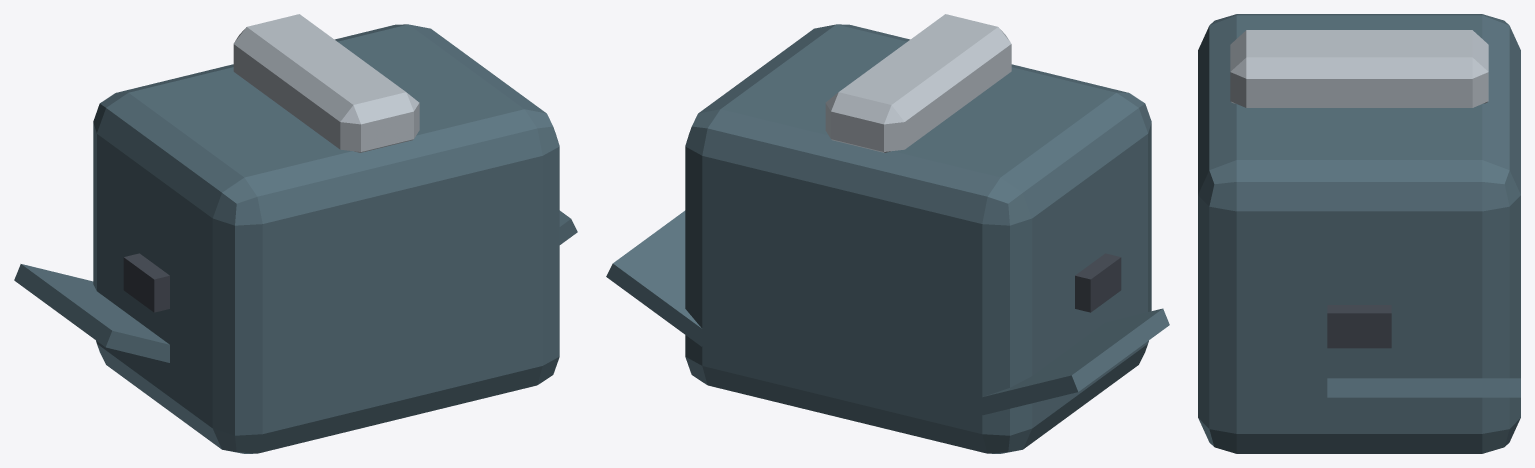
Rendered from hadal_segment.glb.
The picture shows the model from 3 angles, left to right: view 1: azimuth 30°, elevation 25°; view 2: azimuth 150°, elevation 25°; view 3: azimuth 270°, elevation 25°; orthographic projection. The views are drawn at different scales.
Parts seen in each view (by area): view 1: hide, bone2, void; view 2: hide, bone2, void; view 3: hide, bone2, void.
Boxes of the visible parts, x1,y1,x2,y2 form: hide: (14,24,577,453); bone2: (233,14,419,152); void: (123,253,169,312); hide: (606,24,1169,453); bone2: (825,14,1011,152); void: (1075,253,1121,312); hide: (1198,14,1520,453); bone2: (1230,30,1488,107); void: (1327,305,1391,348).
Bounding box in the file's own units: 17.88 × 11.5 × 10.
